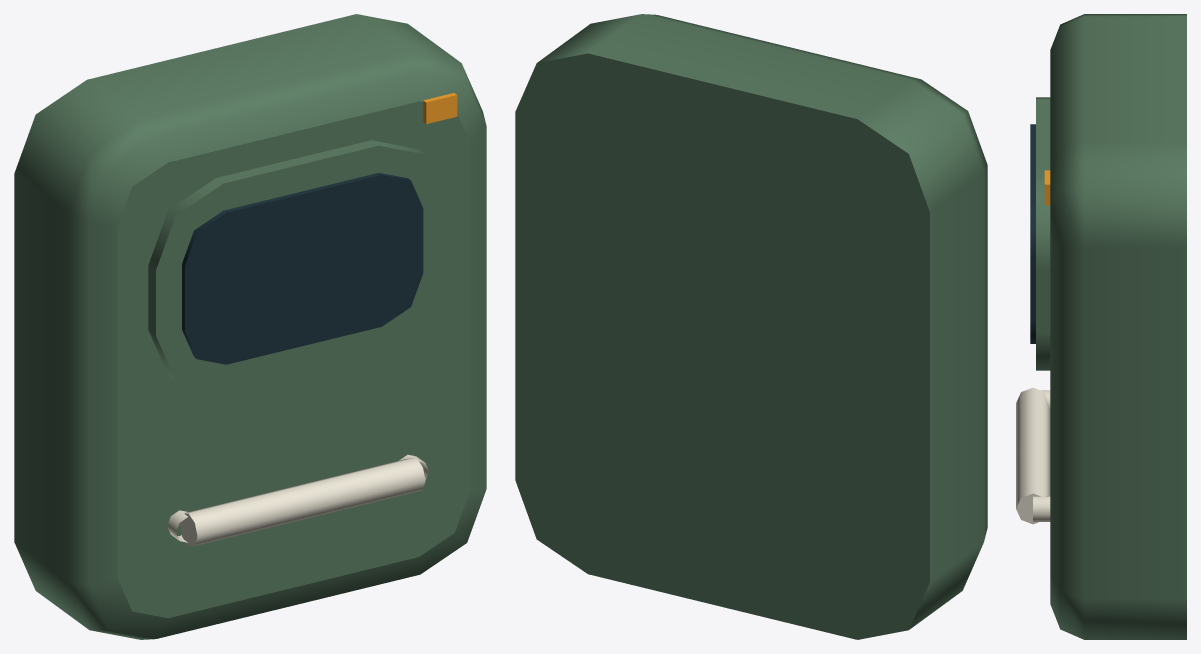
3 views of the same model, side by side, from view 1: azimuth 30°, elevation 25°; view 2: azimuth 150°, elevation 25°; view 3: azimuth 270°, elevation 25° (orthographic). The views are drawn at different scales.
Parts seen in each view (by area): view 1: t10_o2; view 2: t10_o2; view 3: t10_o2.
Part boxes in pixels (left/top/right/bottom): t10_o2: left=14, top=14, right=486, bottom=639; t10_o2: left=515, top=14, right=987, bottom=639; t10_o2: left=1016, top=14, right=1186, bottom=639.
Bounding box in the file's own units: 0.8 × 0.96 × 0.3.
